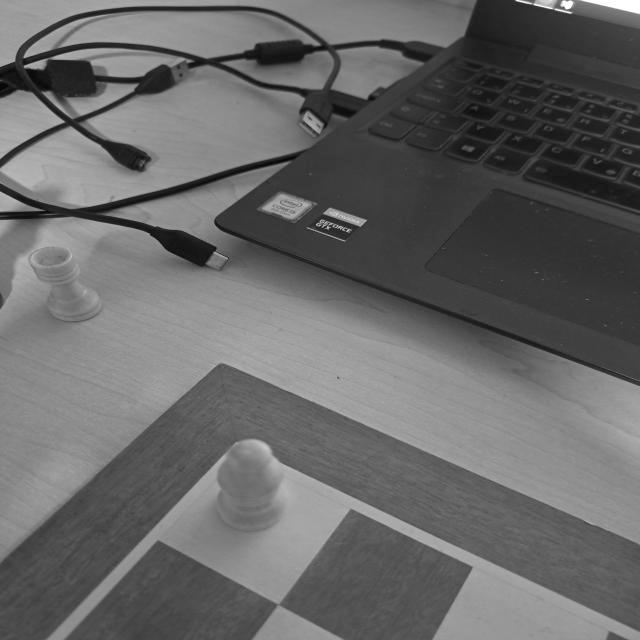chess-table-corners: (160, 427, 328, 502)
